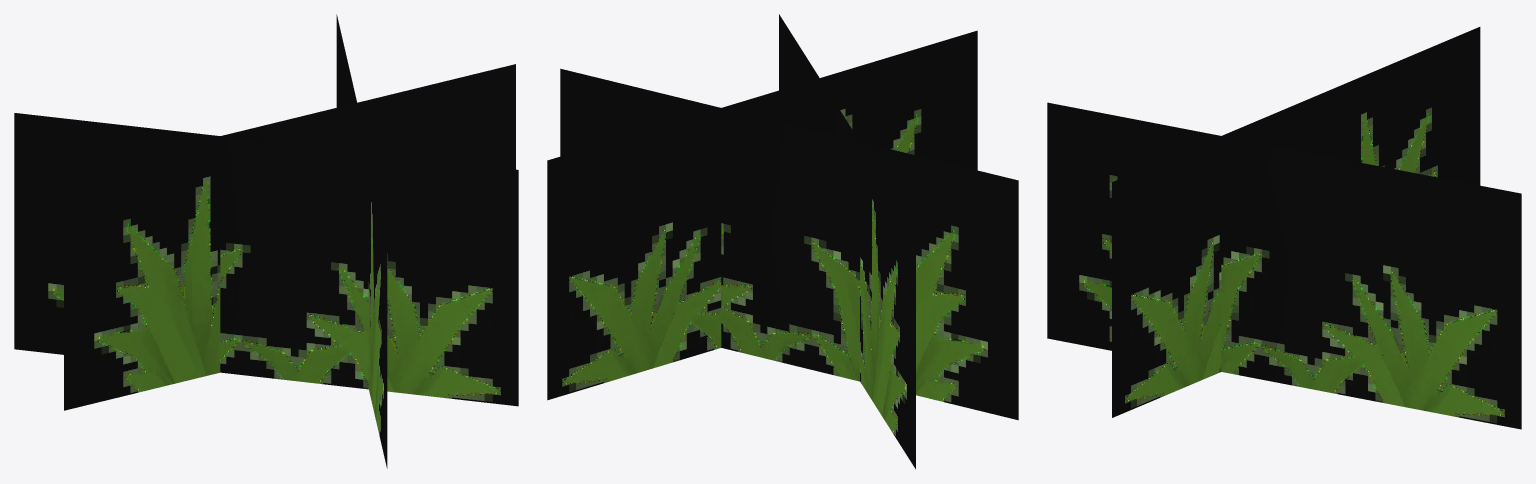
Rendered from mk_grass_wispy.glb.
The picture shows the model from 3 angles, left to right: view 1: azimuth 30°, elevation 25°; view 2: azimuth 150°, elevation 25°; view 3: azimuth 270°, elevation 25°; orthographic projection.
Parts seen in each view (by area): view 1: SM_Env_Grass_Med_Clump_01_LOD0; view 2: SM_Env_Grass_Med_Clump_01_LOD0; view 3: SM_Env_Grass_Med_Clump_01_LOD0.
Part boxes in pixels (left/top/right/bottom): SM_Env_Grass_Med_Clump_01_LOD0: left=14, top=14, right=518, bottom=468; SM_Env_Grass_Med_Clump_01_LOD0: left=547, top=14, right=1018, bottom=469; SM_Env_Grass_Med_Clump_01_LOD0: left=1047, top=27, right=1521, bottom=429.
Size of the model in its own units: 3.34 by 1.67 by 3.04.
1 material, 1 textured.
